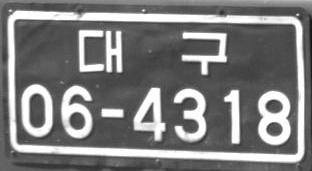0: (20, 82, 53, 137)
1: (218, 89, 251, 144)
3: (173, 86, 207, 143)
4: (133, 86, 165, 141)
6: (60, 83, 93, 139)
8: (257, 89, 292, 146)
대구_D: (78, 28, 227, 76)
